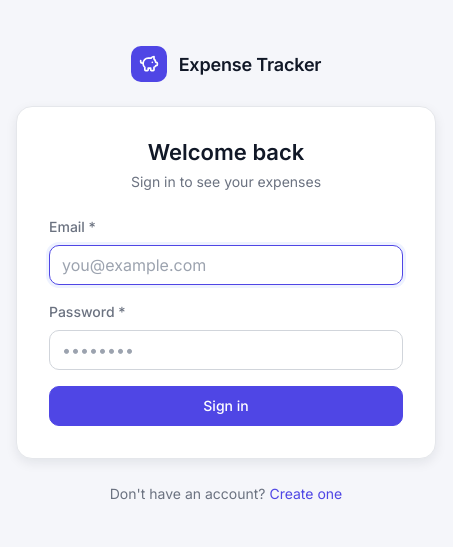
Scenario: login page › surfaces the server message for bad credentials
Expected: the heading "Welcome back" is shown, 148,139 -> 304,165
Type "ada@example.com" into the field labelled "Email *" at (226,265), box 49,245 -> 403,285
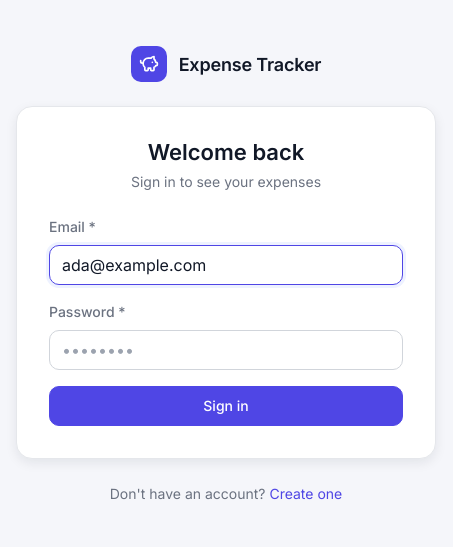
Type "wrong-password" into the password field labelled "Password *" at (226,350), box 49,330 -> 403,370
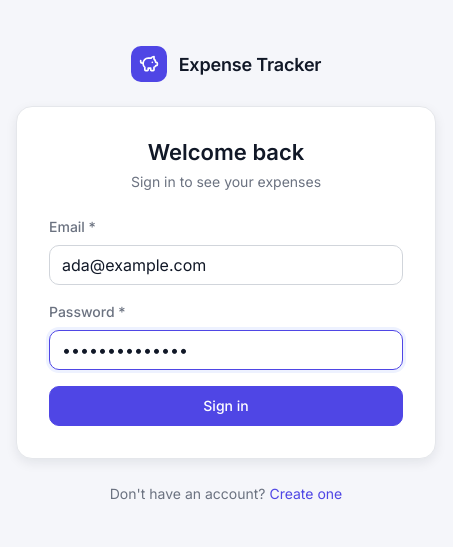
Click the button "Sign in" at (226,406), box 49,386 -> 403,426
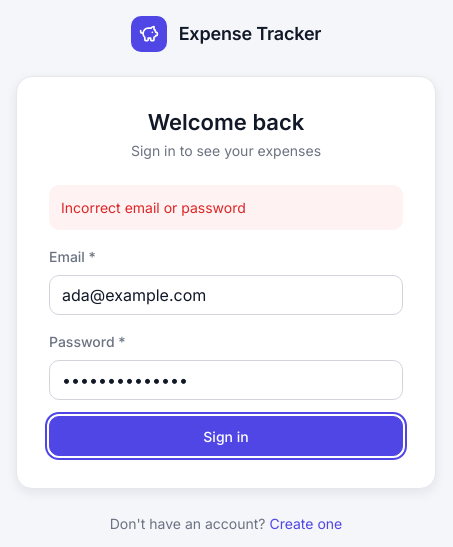
Expected: the message reads "Incorrect email or password", 61,199 -> 246,216
